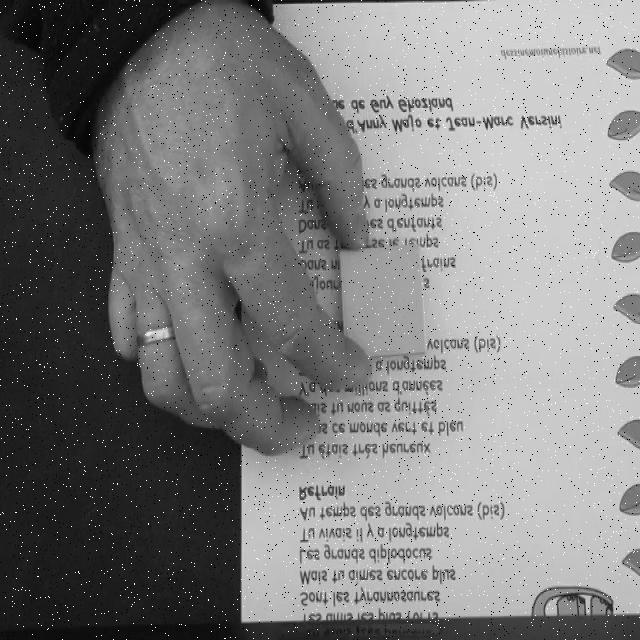square: (338, 244, 428, 360)
